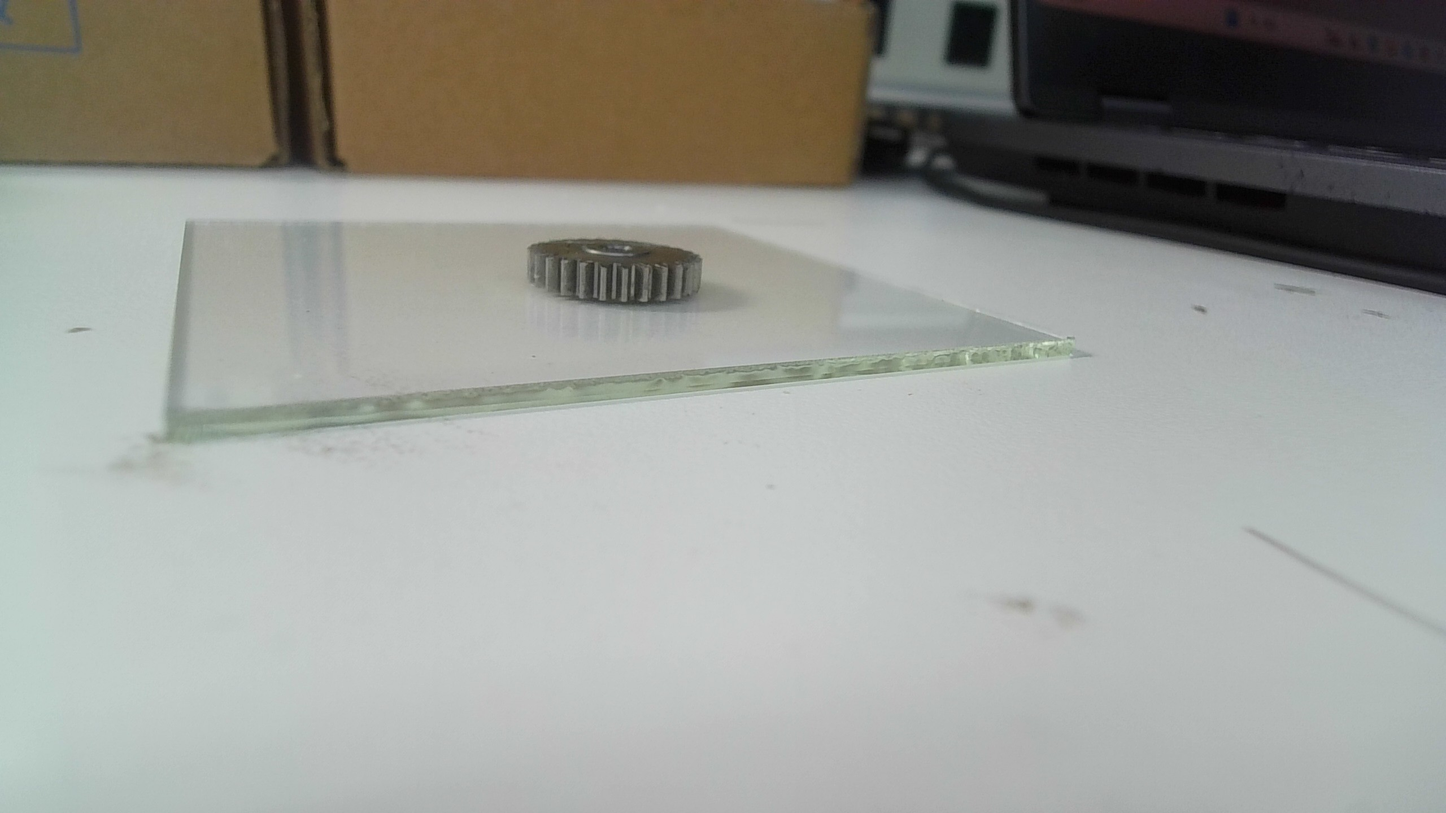gear: (522, 234, 708, 313)
